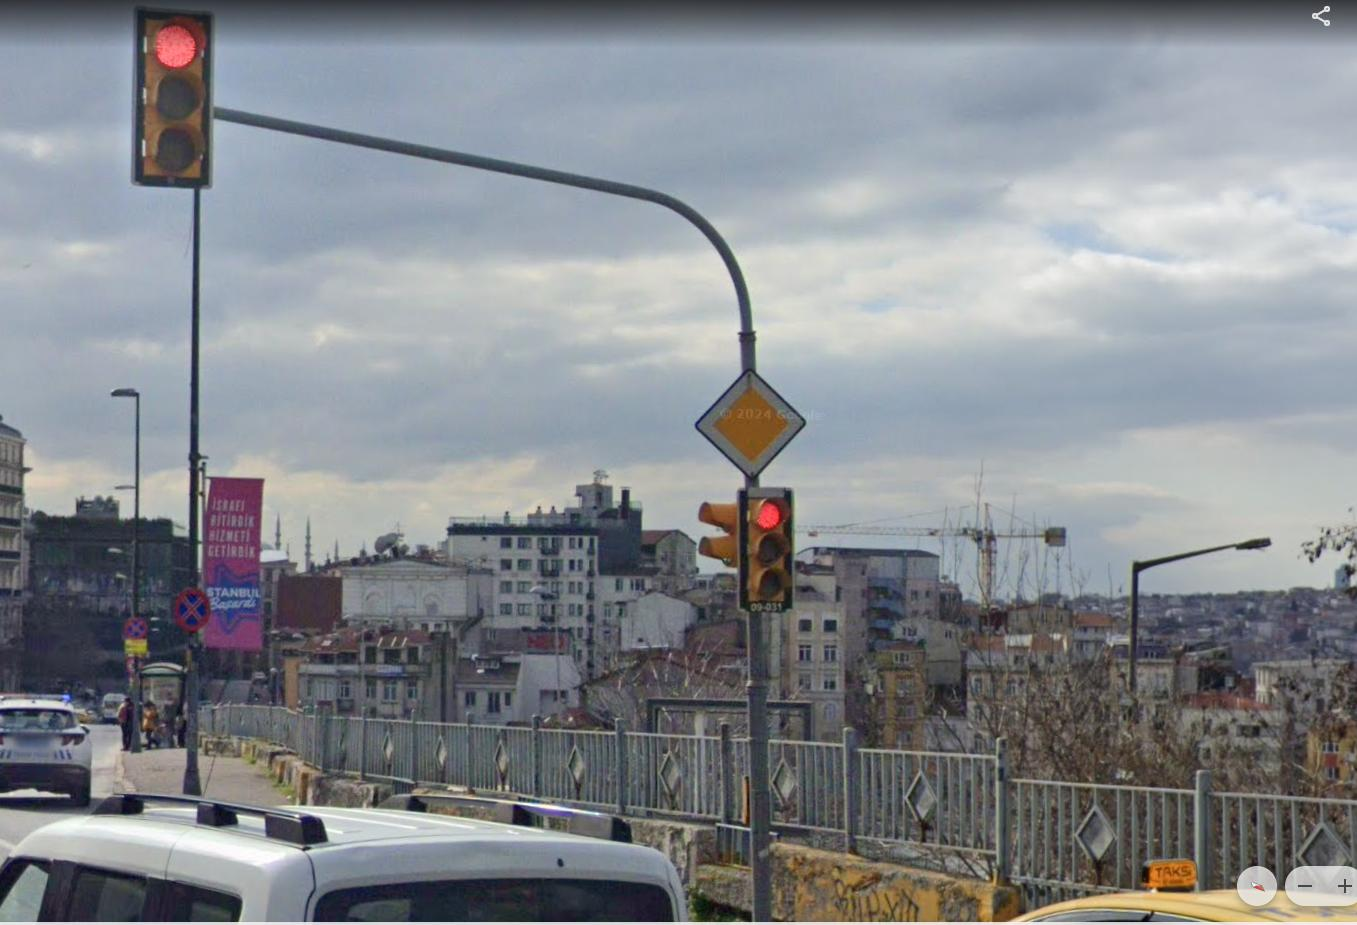redlight: (132, 2, 212, 184), (742, 492, 796, 600)
